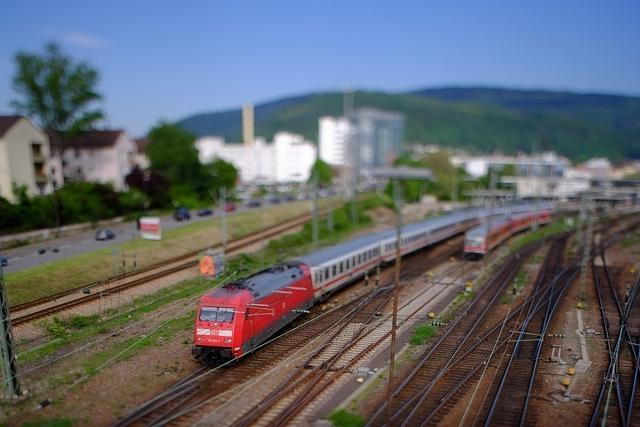car: (94, 228, 117, 241), (173, 212, 193, 222), (297, 192, 313, 200), (194, 210, 213, 216), (222, 204, 235, 212), (248, 201, 260, 209), (269, 196, 281, 204), (0, 258, 8, 266), (284, 196, 294, 202)
